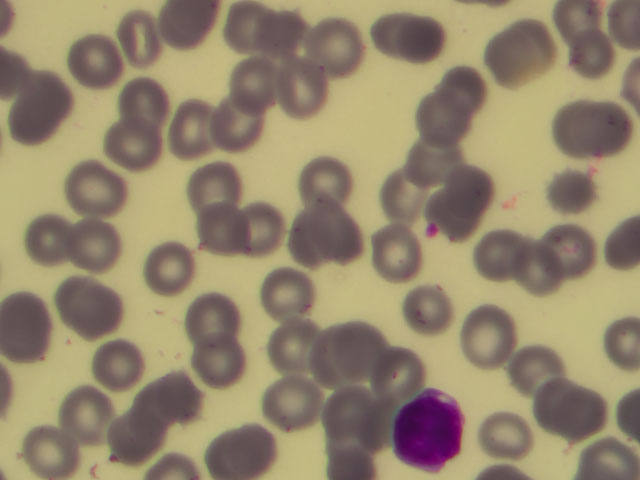Platelets: (421, 220, 439, 242)
RBC: (68, 34, 130, 94), (9, 75, 71, 135), (103, 115, 165, 175), (115, 76, 177, 136), (66, 155, 128, 215), (66, 220, 128, 280), (17, 208, 79, 268), (59, 276, 121, 336), (88, 341, 150, 401), (60, 380, 122, 440), (24, 420, 86, 480), (138, 243, 200, 303), (188, 200, 250, 260), (193, 153, 255, 213), (163, 94, 225, 154), (204, 89, 266, 149), (229, 45, 291, 105), (218, 3, 280, 63), (253, 4, 315, 64), (273, 69, 335, 129), (305, 16, 367, 76), (364, 10, 426, 70), (437, 57, 499, 117), (415, 86, 477, 146), (410, 125, 472, 185), (362, 165, 424, 225), (441, 156, 503, 216), (436, 193, 498, 253), (373, 227, 435, 287), (312, 208, 374, 268), (269, 216, 331, 276), (241, 201, 303, 261), (303, 142, 365, 202), (250, 265, 312, 325), (183, 289, 245, 349), (193, 331, 255, 391), (147, 365, 209, 425), (125, 391, 187, 451), (108, 409, 170, 469), (214, 420, 276, 480), (259, 374, 321, 434), (262, 312, 324, 372), (319, 318, 381, 378), (364, 331, 426, 391), (321, 393, 383, 453), (476, 403, 538, 463), (505, 340, 567, 400), (536, 383, 598, 443), (457, 310, 519, 370), (405, 276, 467, 336), (468, 229, 530, 289), (501, 239, 563, 299), (539, 227, 601, 287), (543, 173, 605, 233), (553, 97, 615, 157), (490, 26, 552, 86), (552, 28, 614, 88), (578, 420, 640, 480), (1, 297, 62, 357), (550, 1, 613, 38)
WBC: (395, 387, 469, 466)
